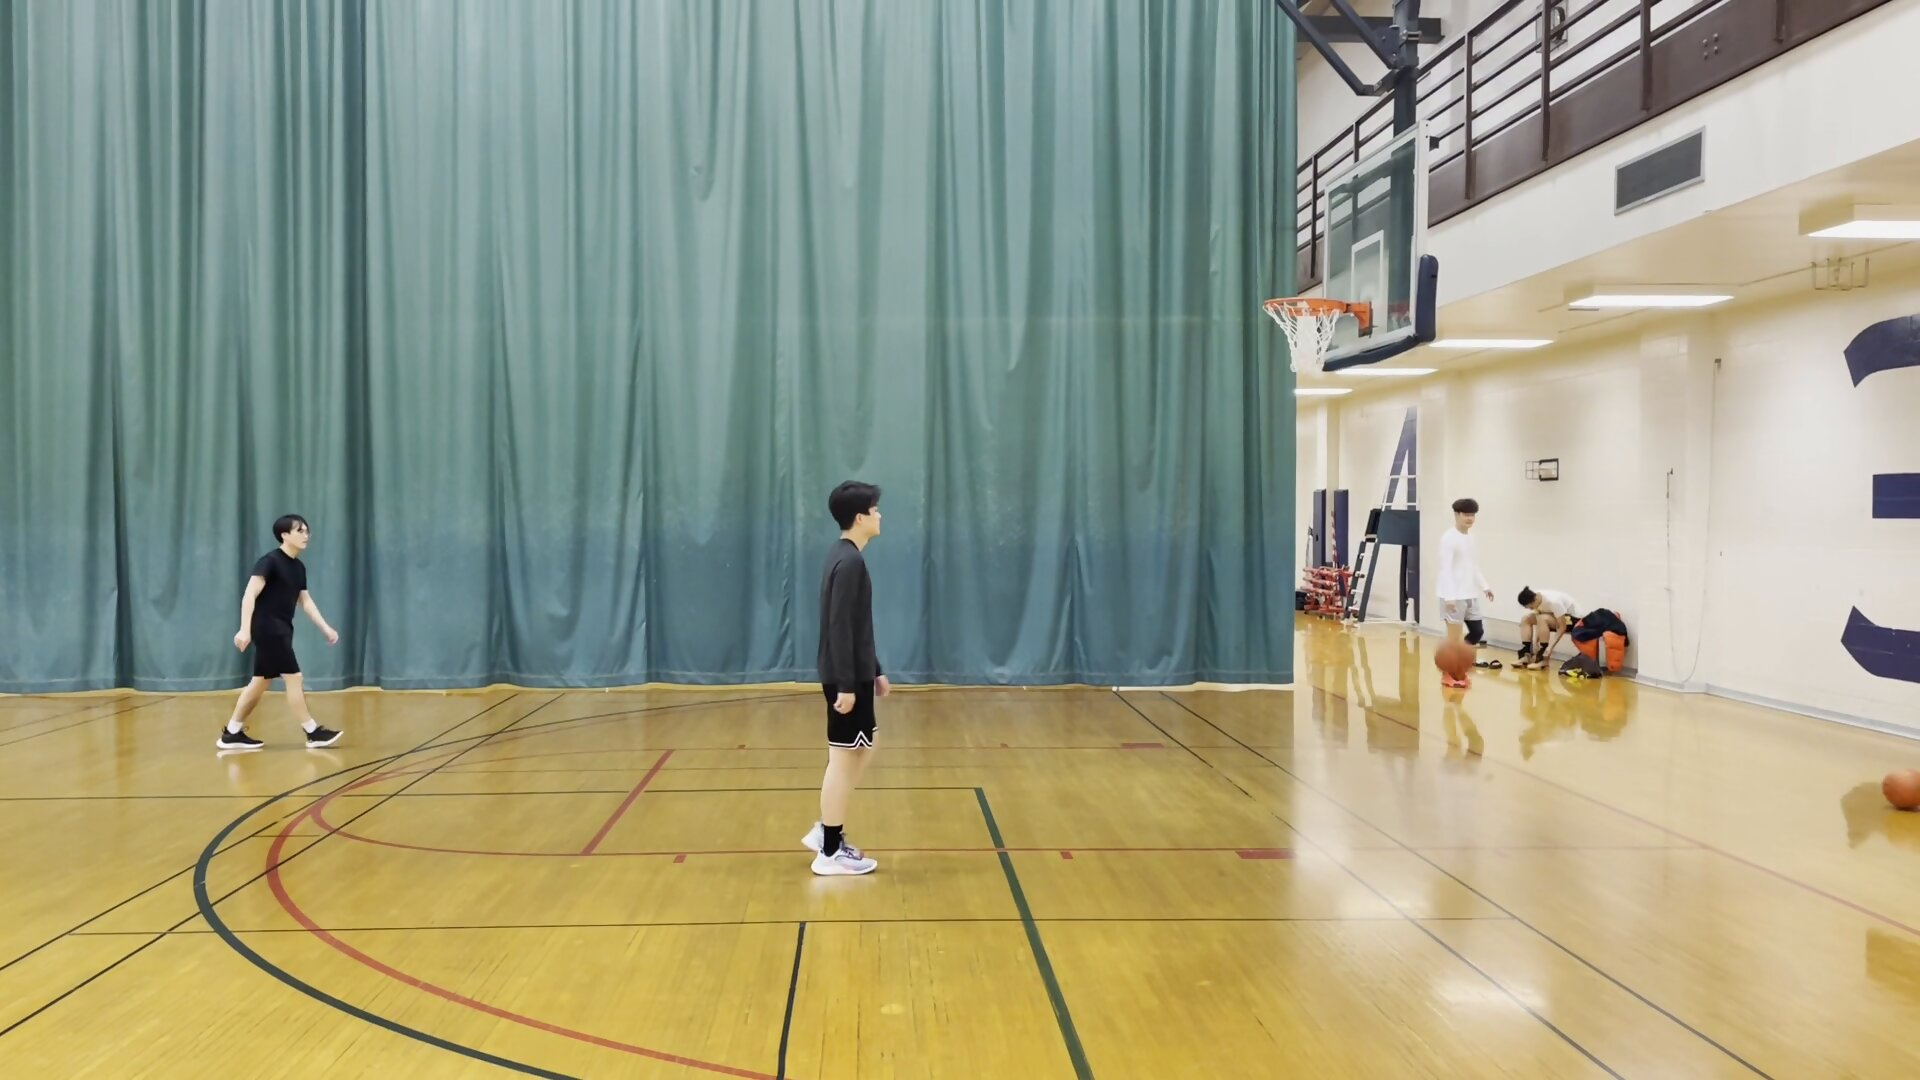ball: (1881, 765, 1919, 816), (1429, 636, 1476, 676)
net: (1283, 348, 1339, 383)
player: (805, 476, 898, 881), (222, 511, 341, 754), (1440, 496, 1486, 691), (1512, 581, 1583, 674)
rim: (1257, 295, 1354, 316)
